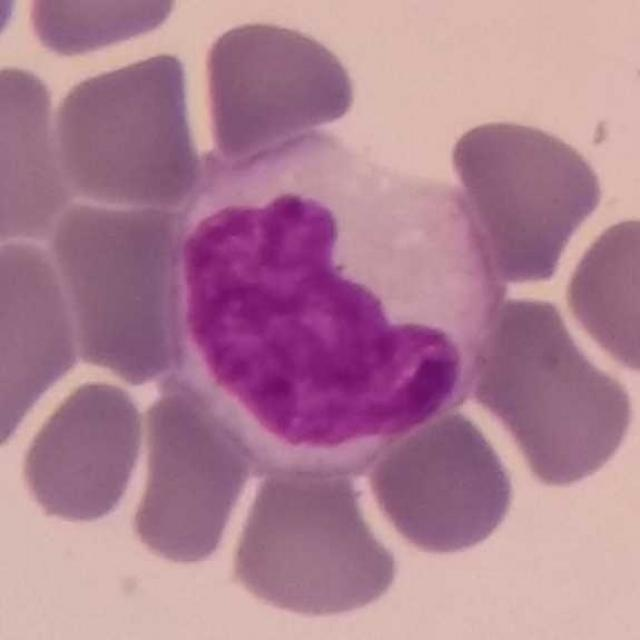mono: (163, 120, 514, 485)
